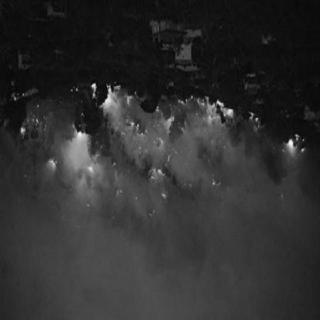Fire: (21, 90, 307, 217)
Smoke: (39, 207, 308, 317)
